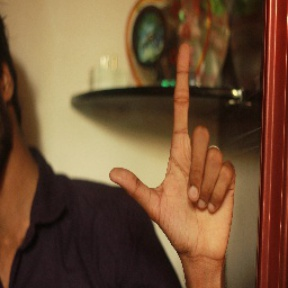L: (109, 44, 240, 257)
